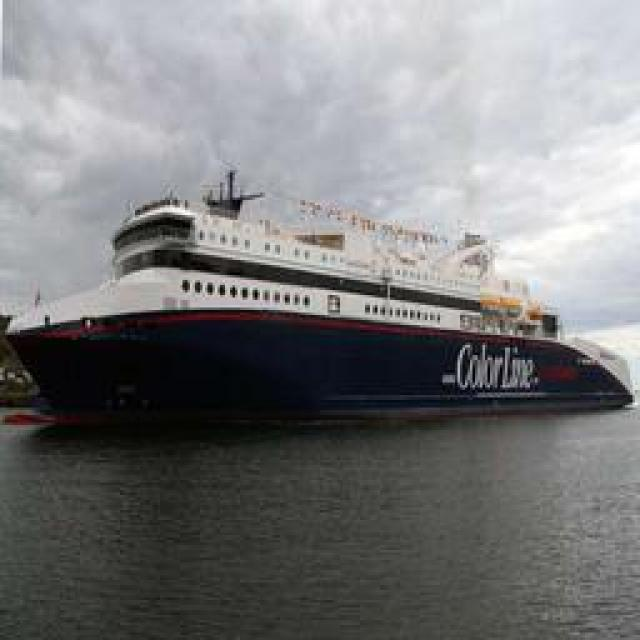CIV_Ship: (8, 171, 628, 424)
